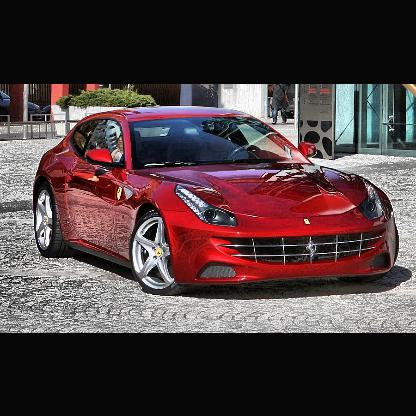Ferrari FF Coupe 2012: (33, 104, 402, 299)
